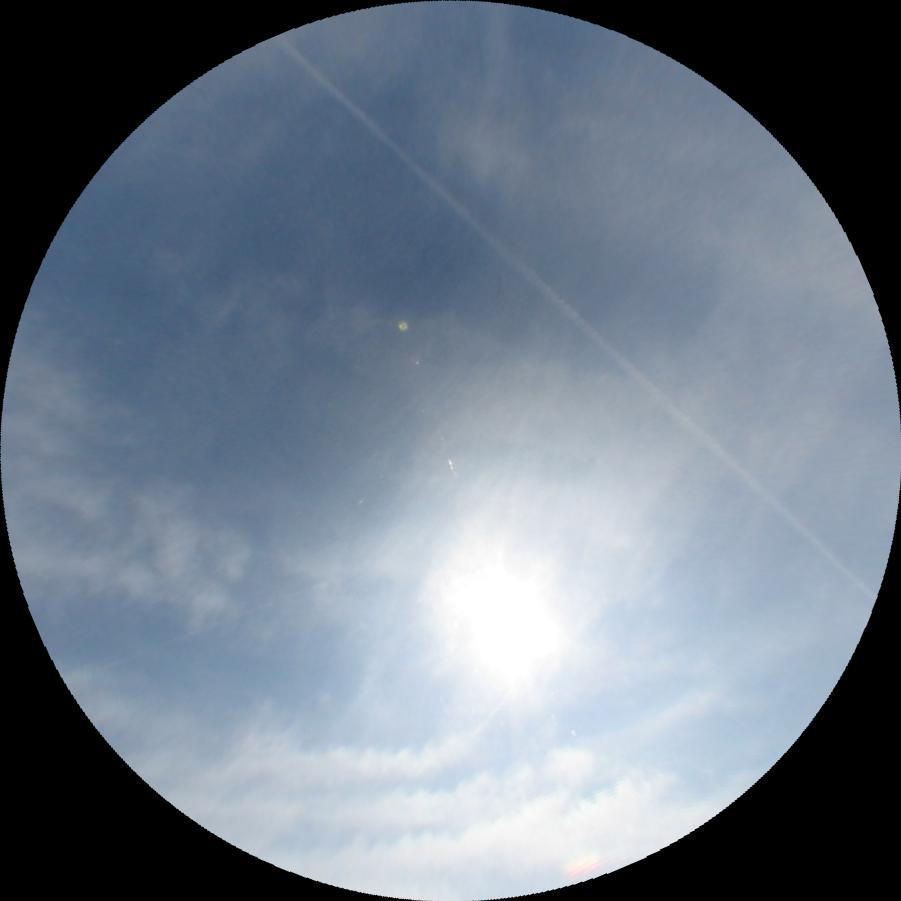contrail old: (470, 692, 514, 734)
contrail young: (270, 31, 881, 605)
sun: (434, 545, 575, 703)
